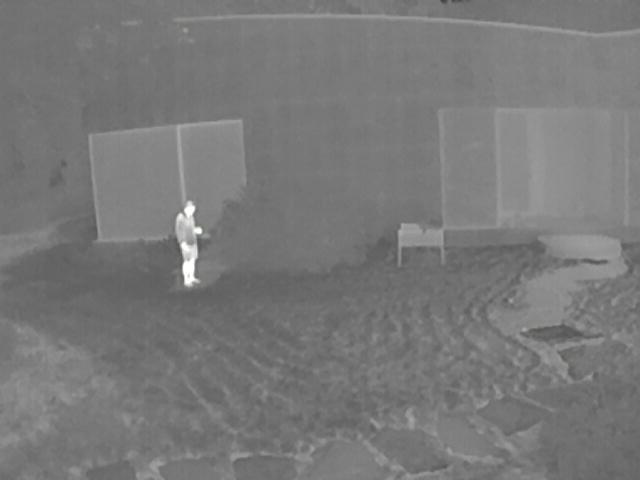person: (175, 199, 203, 289)
